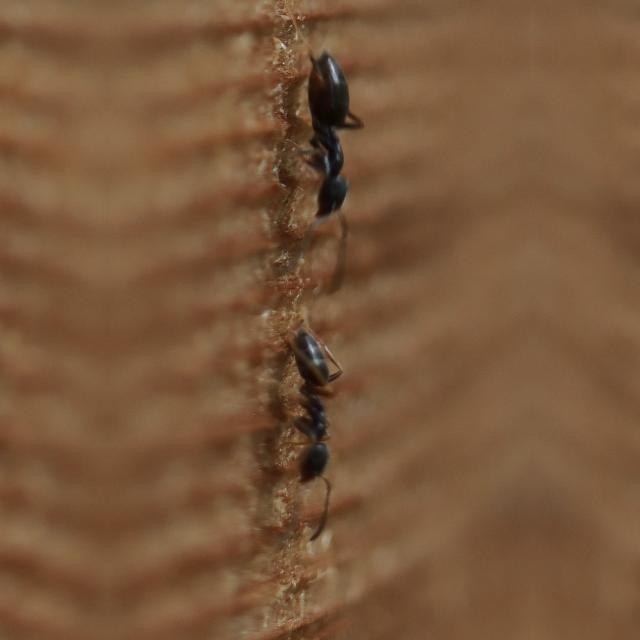Tapinoma: (287, 32, 369, 238), (281, 318, 345, 494)
